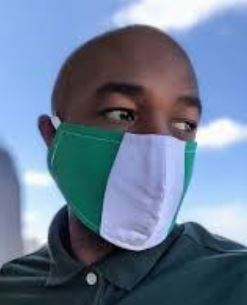with_facemask: (57, 123, 221, 250)
